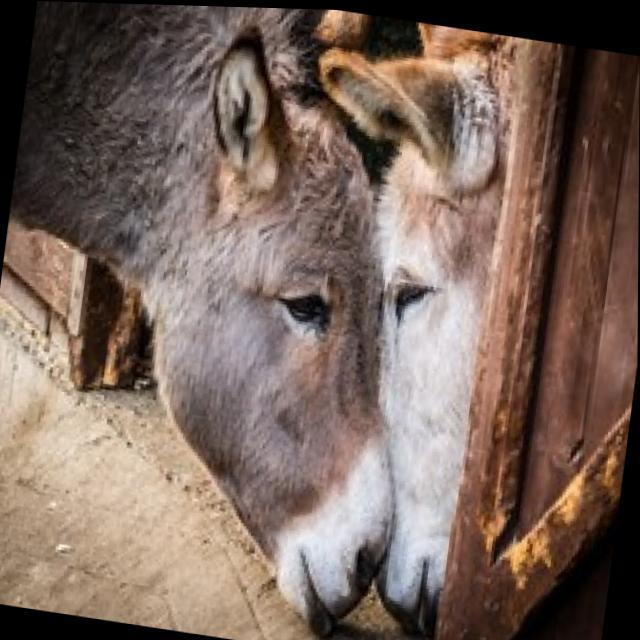Donkey: (0, 0, 455, 640), (244, 6, 521, 640), (430, 31, 640, 640)
